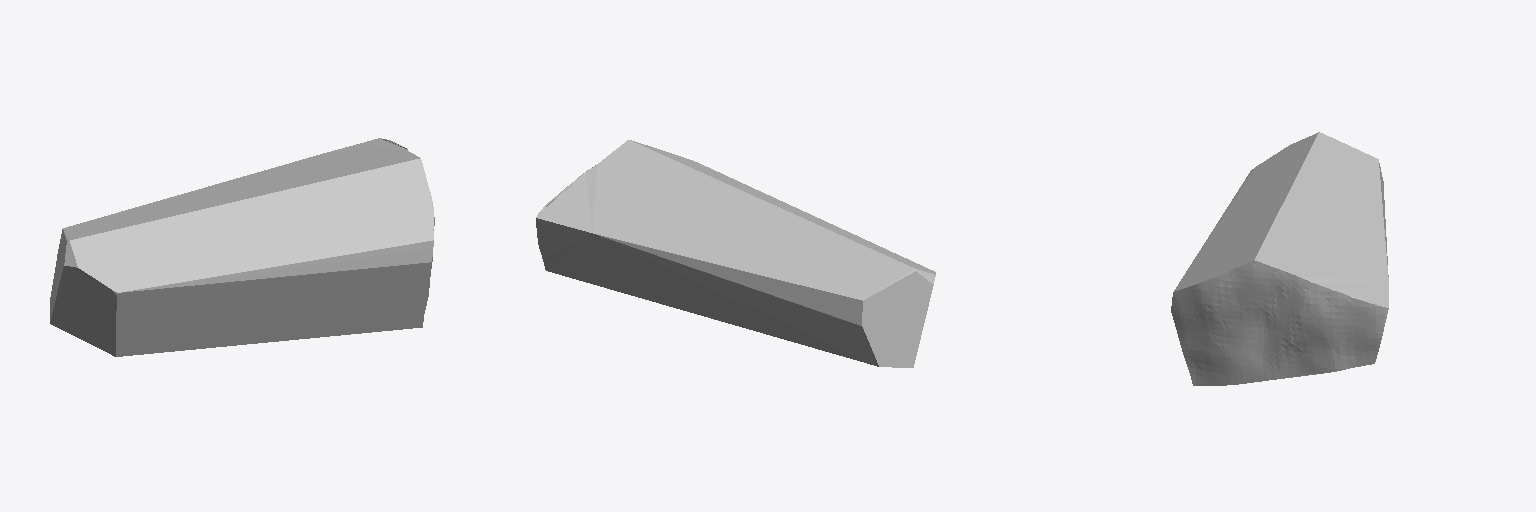
Rendered from low_cell_017.obj.
The picture shows the model from 3 angles: view 1: azimuth 30°, elevation 25°; view 2: azimuth 150°, elevation 25°; view 3: azimuth 270°, elevation 25°; orthographic projection.
Parts seen in each view (by area): view 1: low_cell.017_low_cell.016; view 2: low_cell.017_low_cell.016; view 3: low_cell.017_low_cell.016.
Boxes of the visible parts, x1=… form: low_cell.017_low_cell.016: x1=50, y1=138, x2=434, y2=356; low_cell.017_low_cell.016: x1=536, y1=140, x2=935, y2=367; low_cell.017_low_cell.016: x1=1171, y1=132, x2=1388, y2=385.
Size of the model in its own units: 1.15 by 0.4296 by 0.6055.